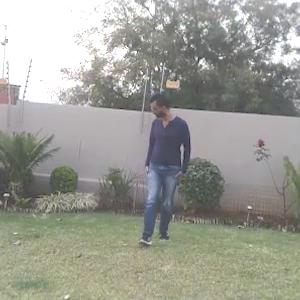follow: (130, 81, 189, 268)
